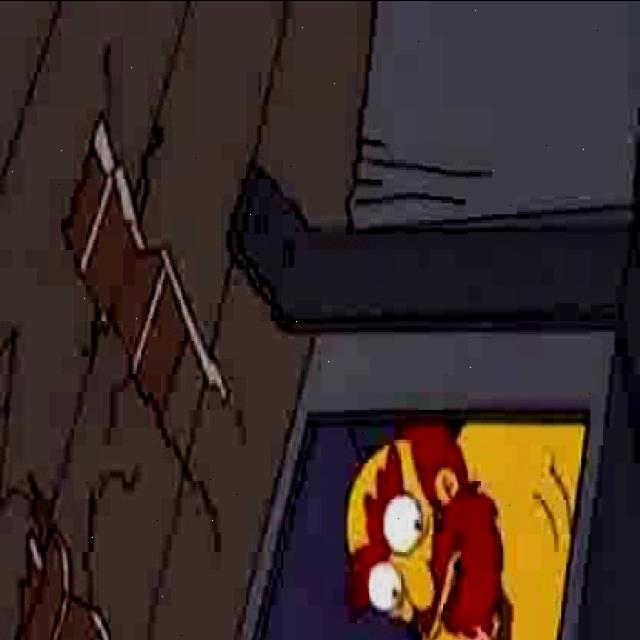Groundskeeper Willie: (339, 419, 507, 639)
